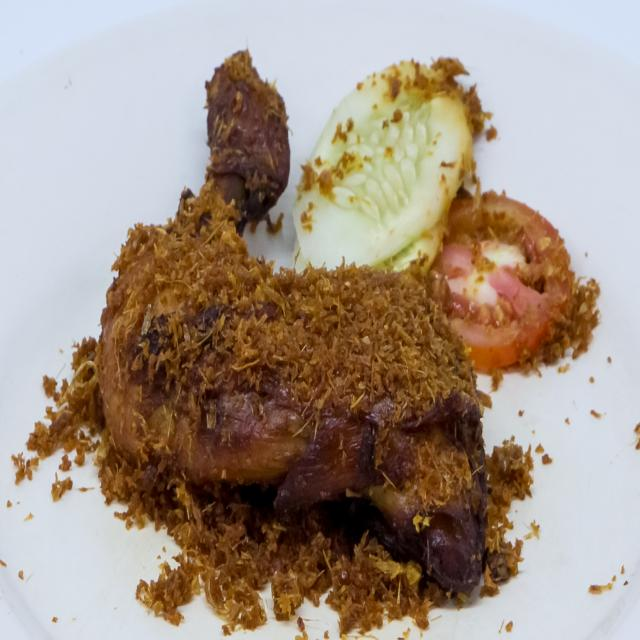Ayam-Goreng-Lengkuas: (66, 29, 508, 622)
